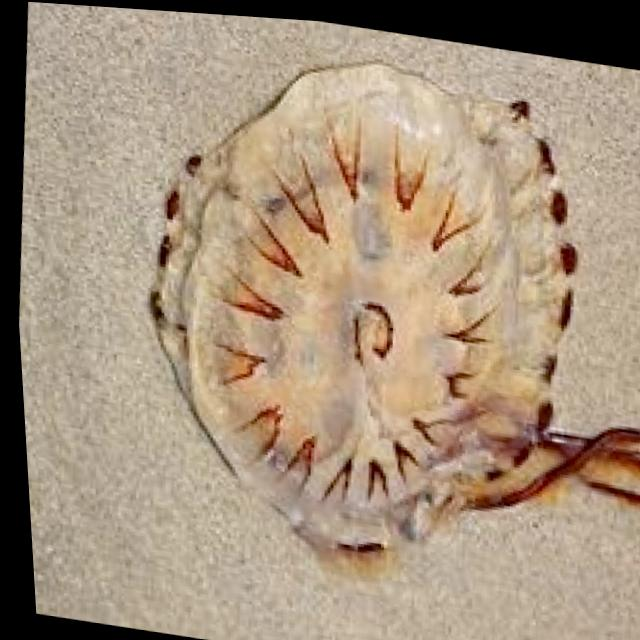Box-jellyfish: (107, 21, 640, 626)
